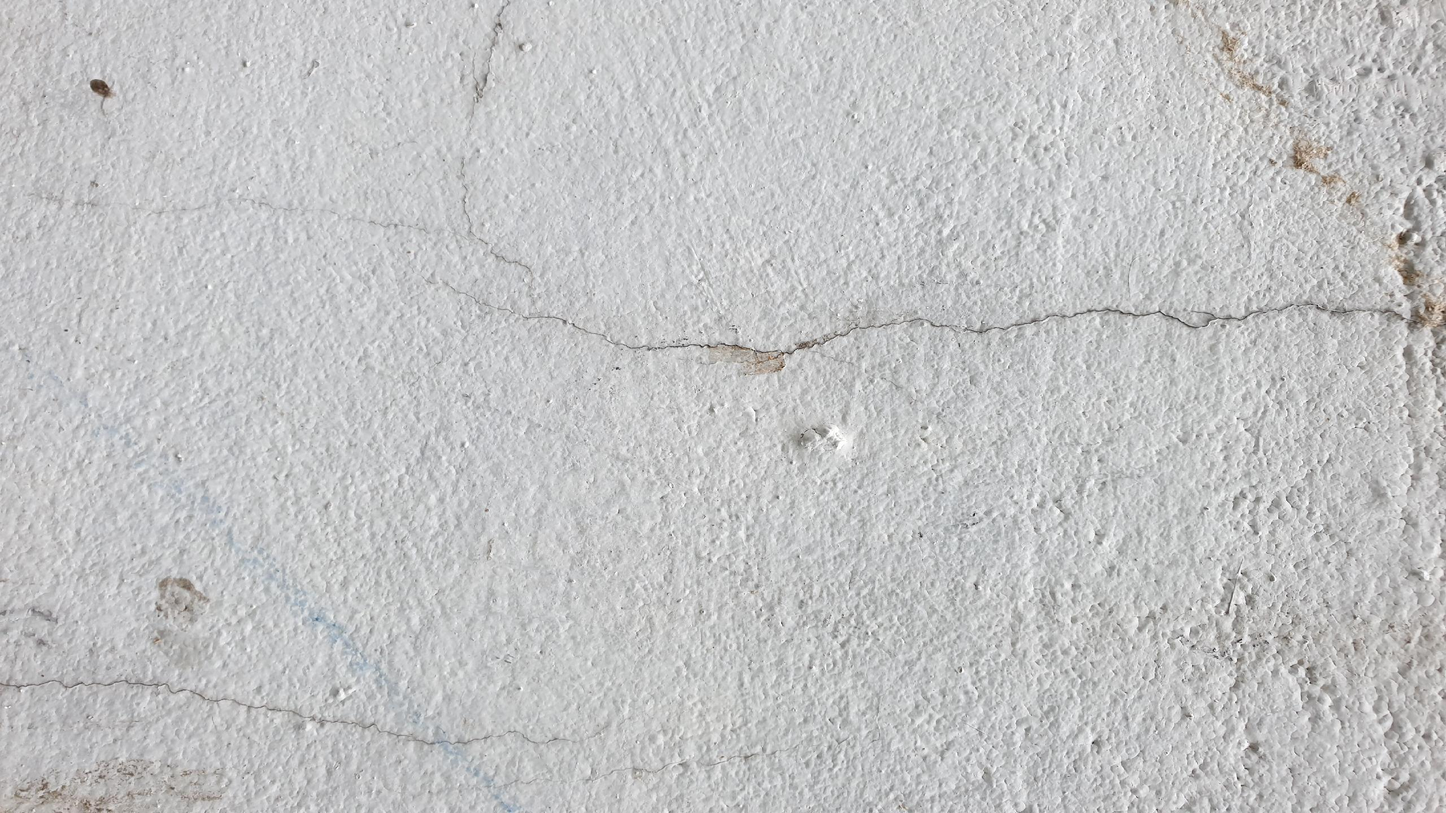crack: (453, 283, 1403, 359), (2, 673, 546, 750)
